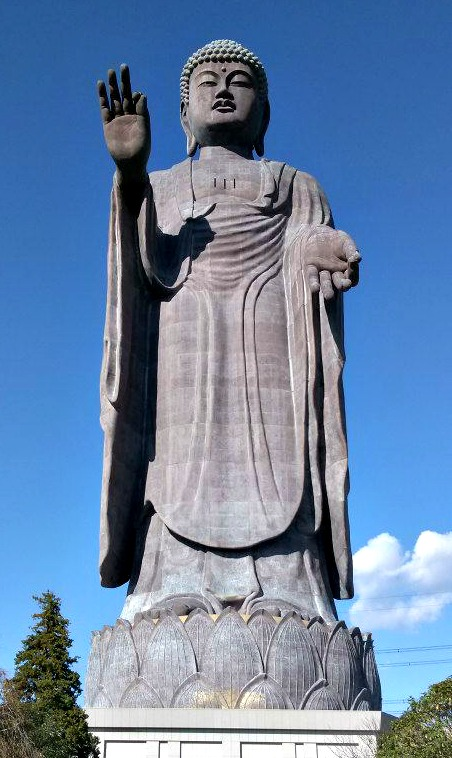person-like: (77, 27, 380, 638)
